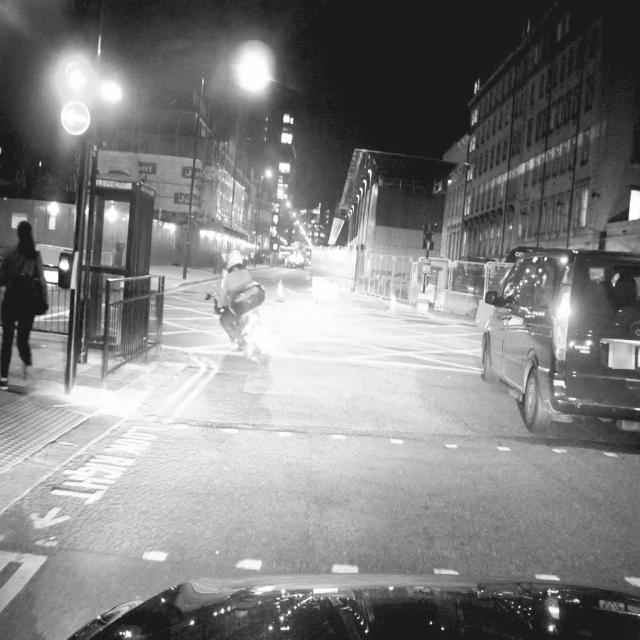Light: (64, 0, 96, 96), (99, 48, 124, 107), (58, 251, 74, 289)
Sign: (58, 100, 94, 139)
